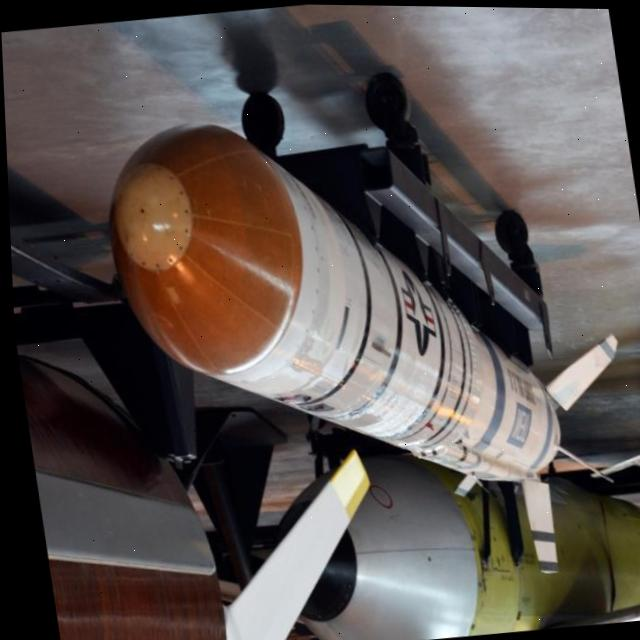missile: (108, 88, 586, 543)
